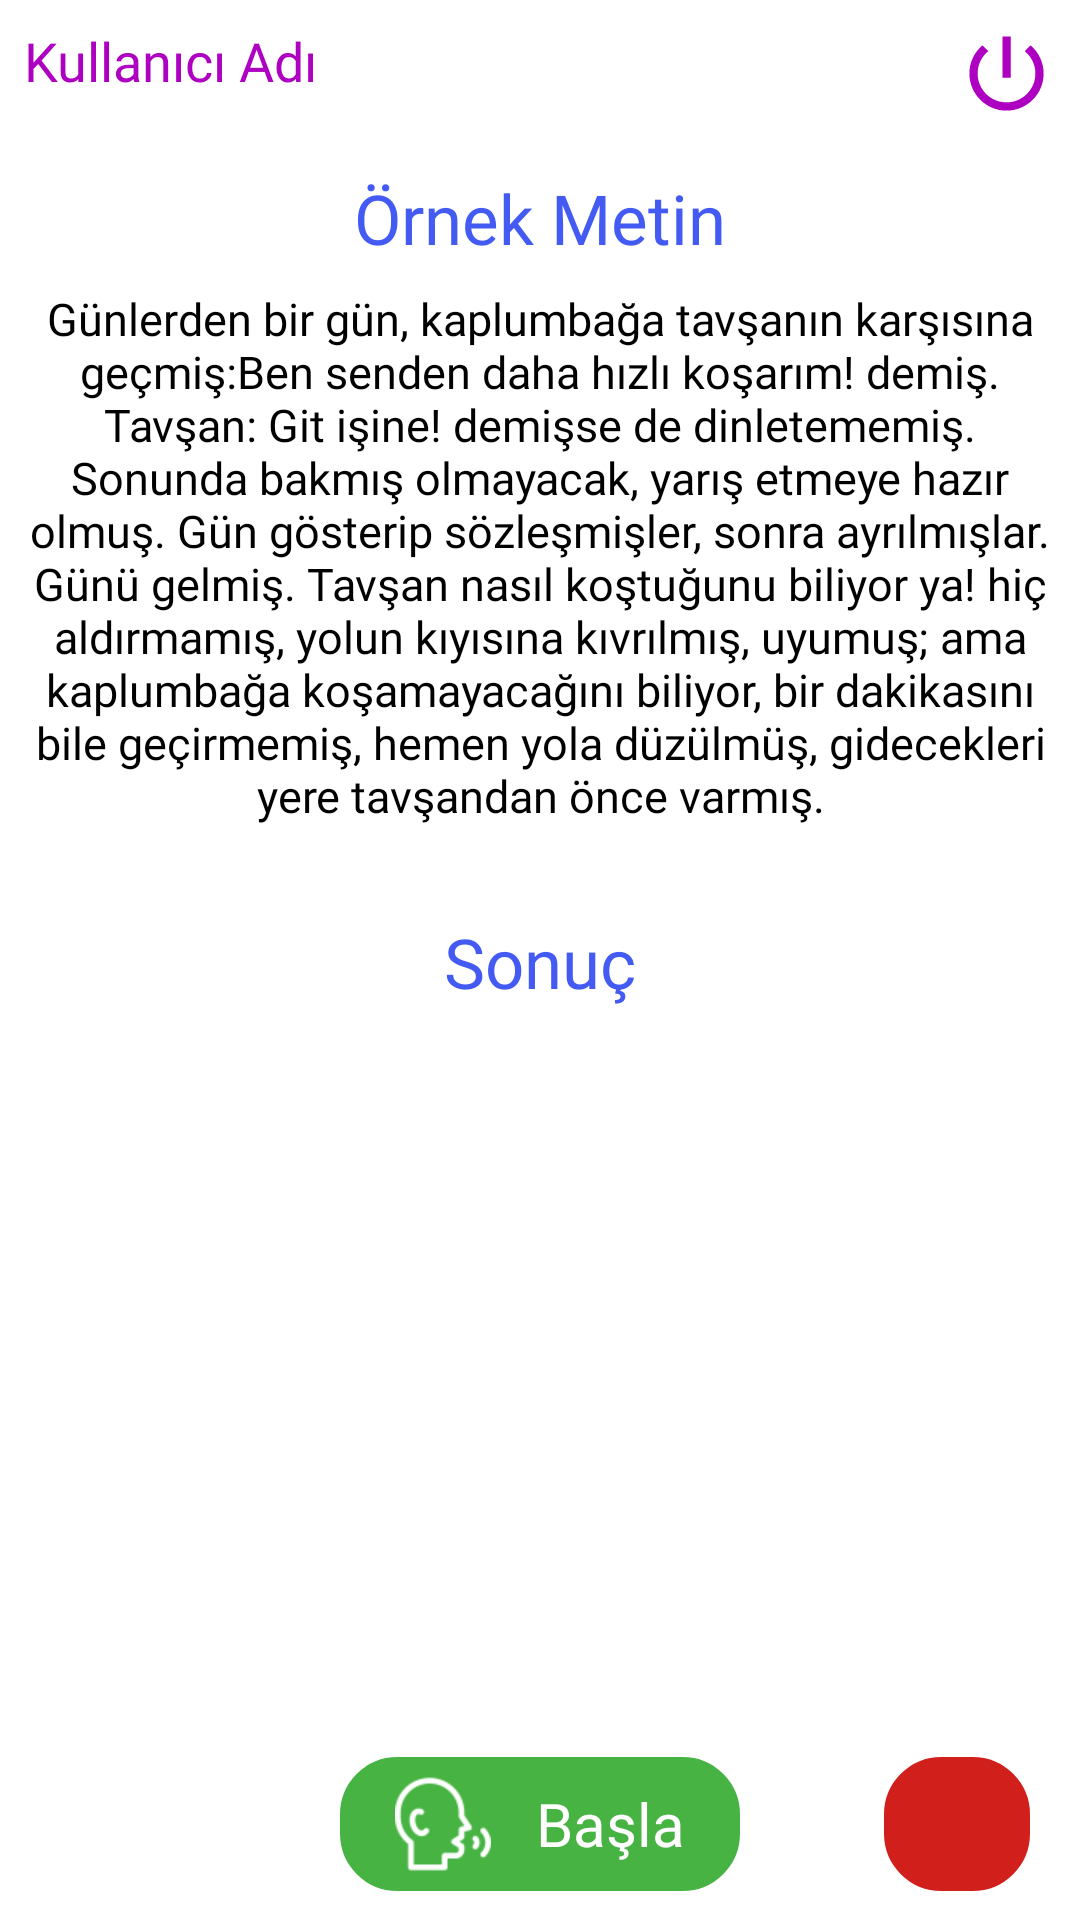

Icon bounding boxes for this 1080×1920 phone screenshot, format (x1, y1, x2, y2):
power settings: (969, 36, 1044, 111)
rumor: (395, 1777, 491, 1871)
